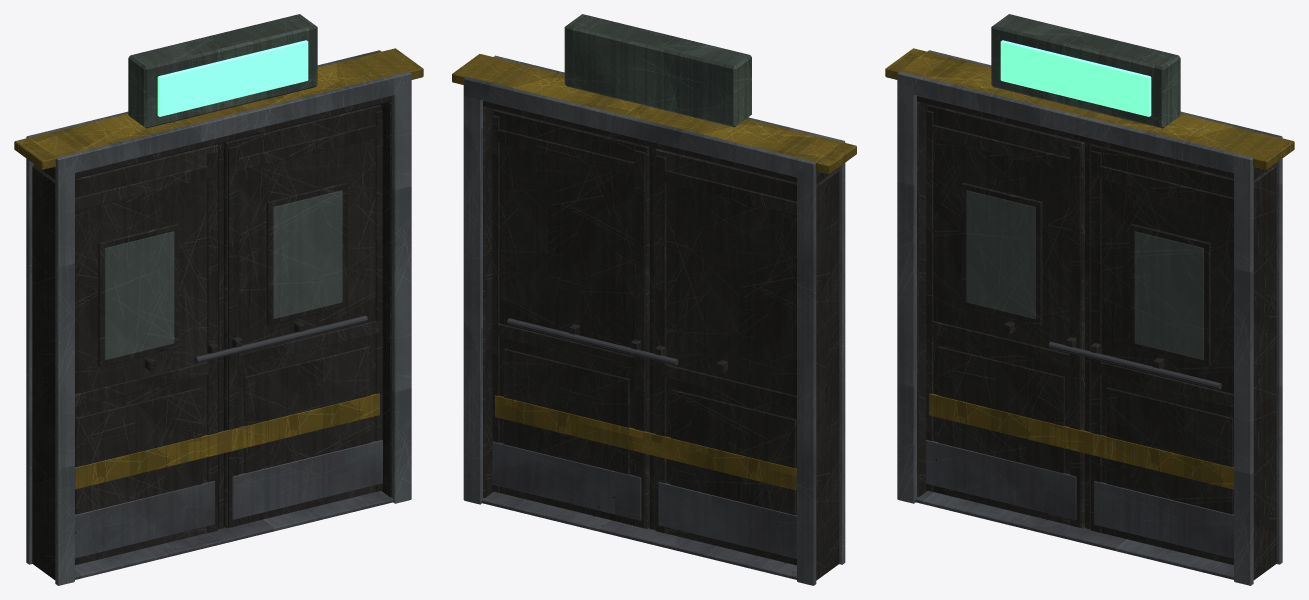
File: exit_door.glb
The picture shows the model from 3 angles, left to right: view 1: azimuth 30°, elevation 25°; view 2: azimuth 150°, elevation 25°; view 3: azimuth 330°, elevation 25°; orthographic projection.
Visible parts, largest first — view 1: body, frame; view 2: body, frame; view 3: body, frame.
Boxes of the visible parts, box(x1,y1,x2,y2) form: body: box(14, 14, 423, 565); frame: box(26, 50, 411, 585); body: box(452, 14, 856, 565); frame: box(463, 55, 845, 585); body: box(885, 14, 1294, 565); frame: box(897, 50, 1282, 585).
Size of the model in its own units: 2.2 by 2.72 by 0.32.
7 materials, 5 textured.
